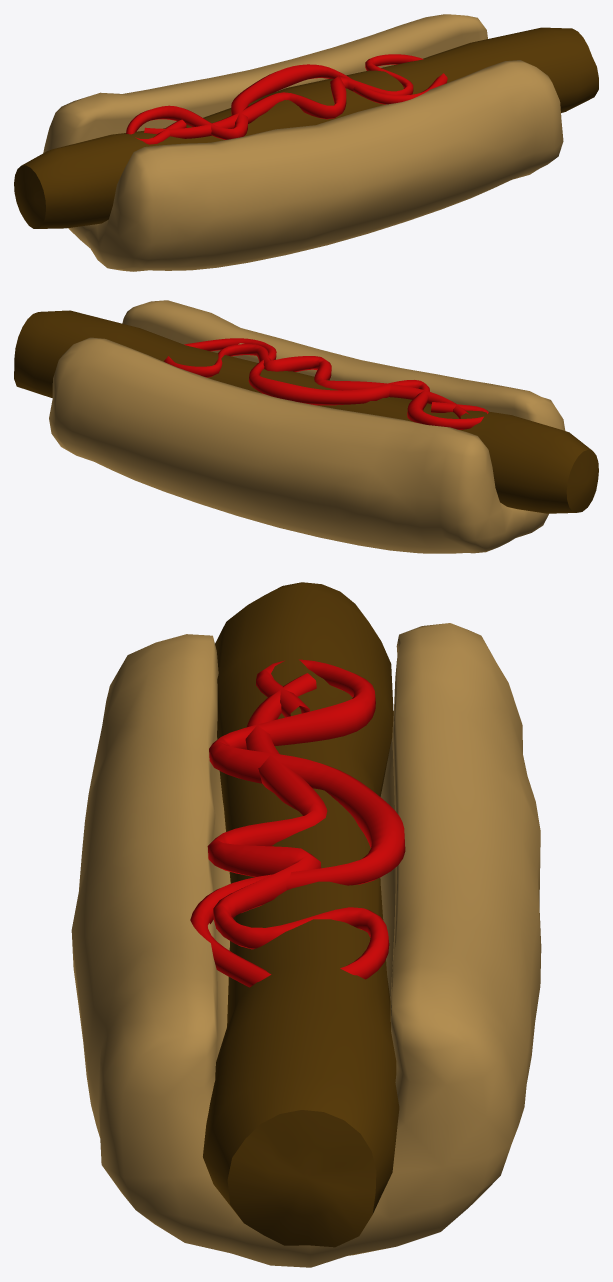
Rendered from hotdog.fbx.
The picture shows the model from 3 angles, top to bottom: view 1: azimuth 30°, elevation 25°; view 2: azimuth 150°, elevation 25°; view 3: azimuth 270°, elevation 25°; orthographic projection. The views are drawn at different scales.
Parts seen in each view (by area): view 1: objHotdog:hotdog; view 2: objHotdog:hotdog; view 3: objHotdog:hotdog.
Part boxes in pixels (x1,y1,x2,y2): objHotdog:hotdog: (14,14,598,271); objHotdog:hotdog: (14,300,598,553); objHotdog:hotdog: (71,582,541,1267).
Bounding box in the file's own units: 6.01 × 1.55 × 2.17.
